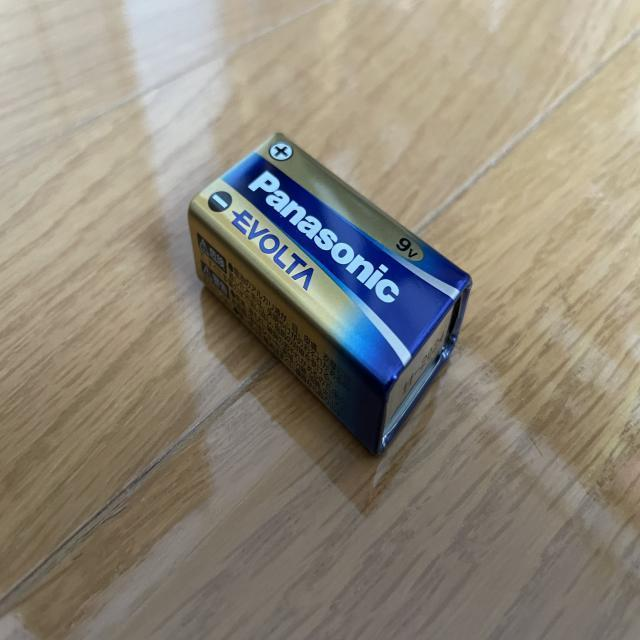9V: (187, 132, 475, 458)
